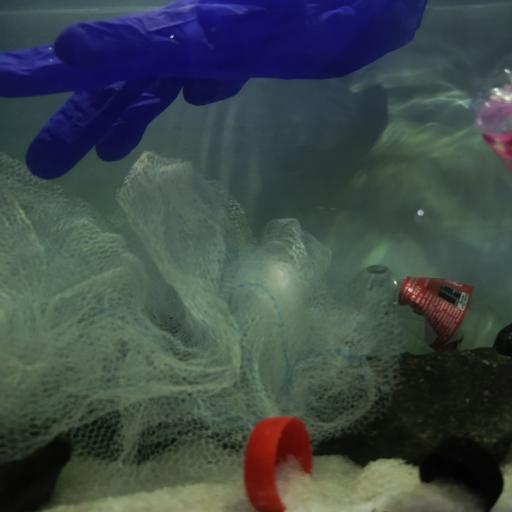bottle_cap: (245, 415, 314, 512), (419, 433, 504, 511)
glove: (1, 0, 427, 181)
net: (0, 147, 407, 478)
plastic_bottle: (355, 262, 505, 360)
